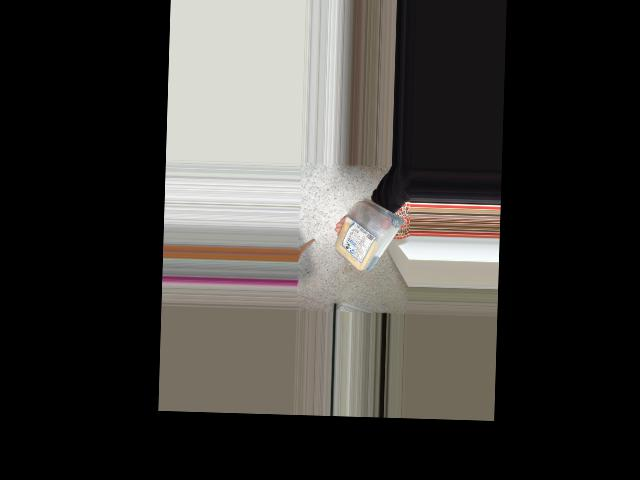cheese: (333, 198, 399, 276)
